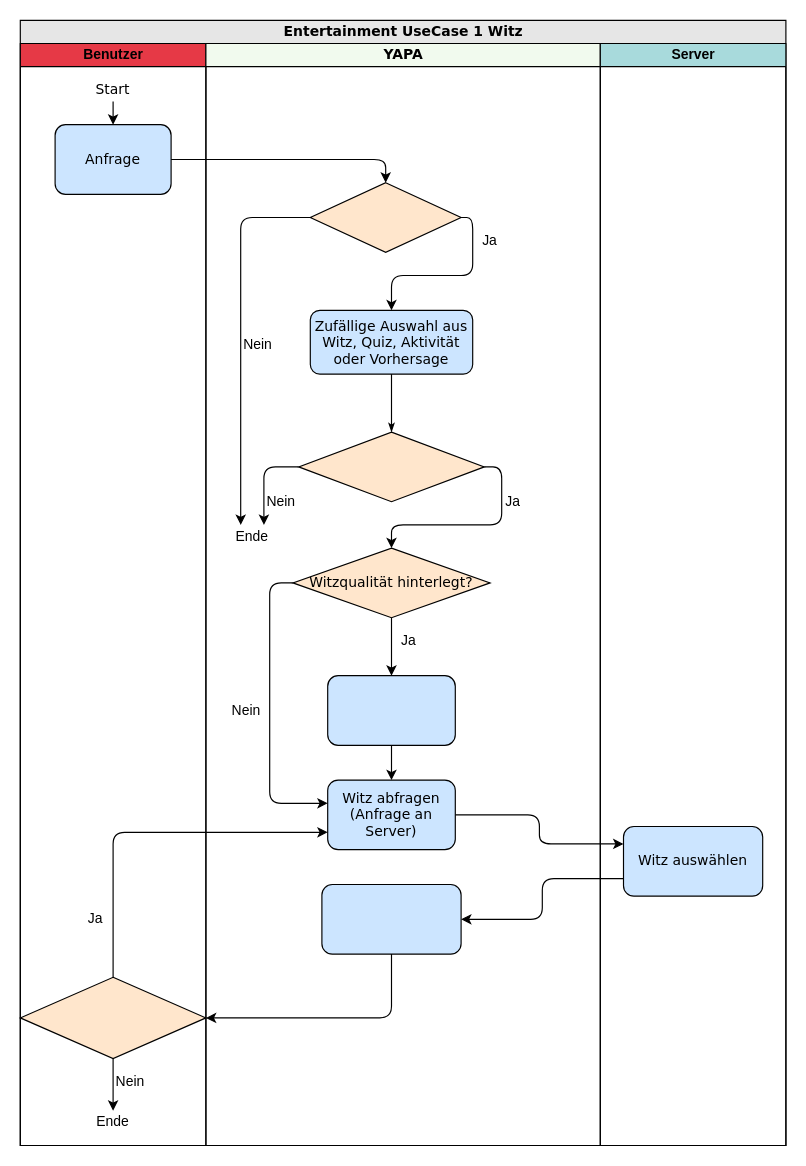
Some shapes in this 806 by 1166 pixel diagram are drawn without their labels. Each missing label, with the centre of its shape:
"Fällt Schlagwort?" belongs at pixel 385 217.
"Weiterer Witz erwünscht?" belongs at pixel 112 1017.
"Witz ausgeben" belongs at pixel 391 918.
"Witz ausgewählt?" belongs at pixel 391 466.
"Zufällige Auswahl der Witzqualität" belongs at pixel 391 710.
